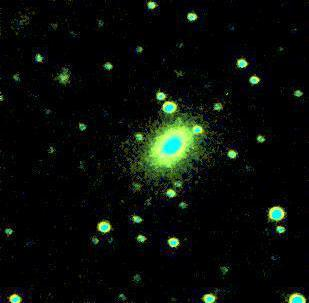star: (177, 132, 207, 162)
